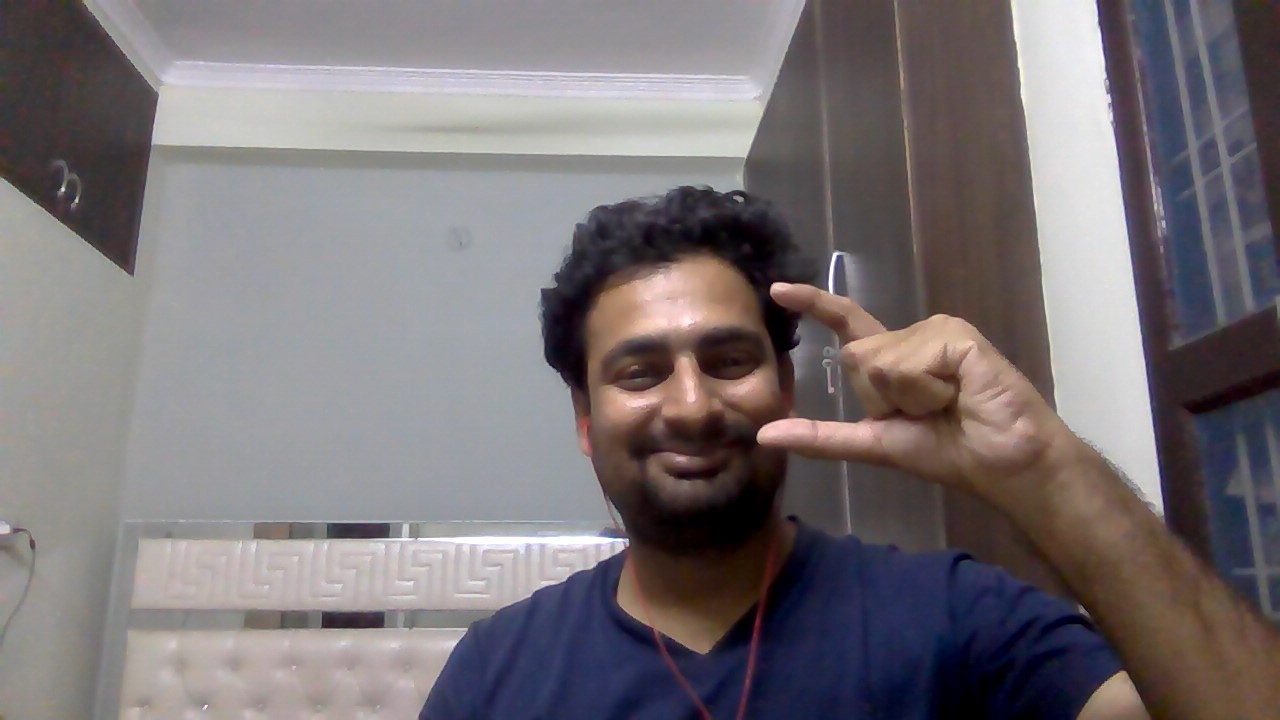Paste: (748, 274, 1061, 508)
